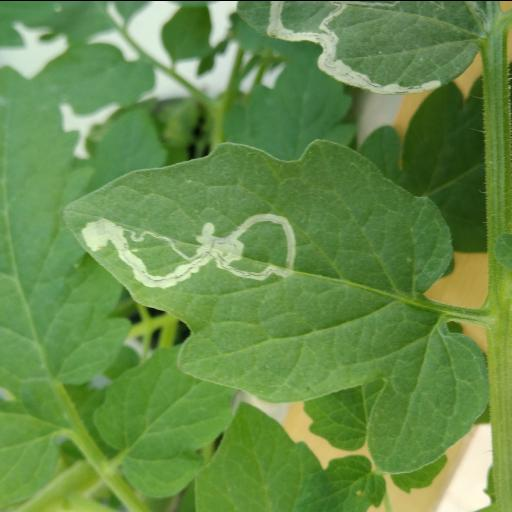Leaf Miner: (60, 138, 488, 472), (225, 2, 479, 94)
